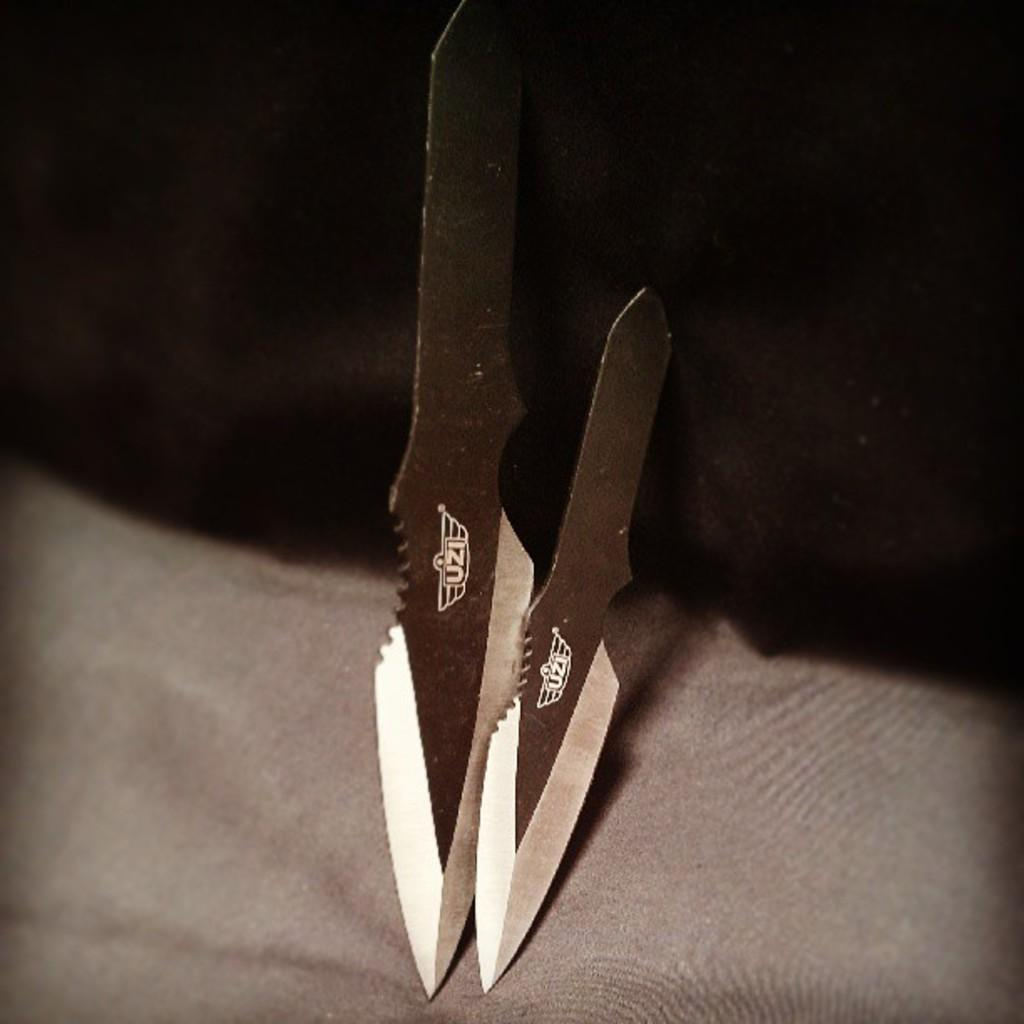Knife: (365, 2, 542, 1006), (477, 291, 678, 994)
